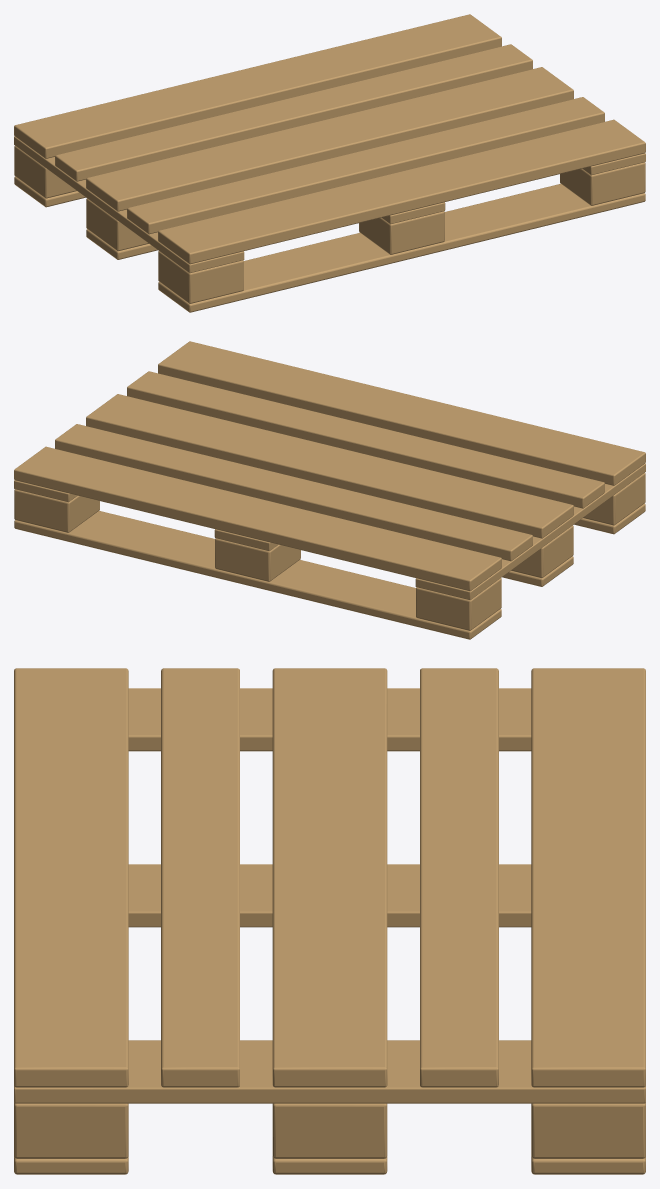
Rendered from pallet_1200x800.glb.
The picture shows the model from 3 angles, top to bottom: view 1: azimuth 30°, elevation 25°; view 2: azimuth 150°, elevation 25°; view 3: azimuth 270°, elevation 25°; orthographic projection. The views are drawn at different scales.
Visible parts, largest first — view 1: Deck plank, Deck plank.002, Deck plank.004, Deck plank.001, Deck plank.003, Pallet runner, Pallet block, Pallet block.006, Pallet block.003, Cross stringer, Pallet block.002, Pallet block.001 (+4 smaller); view 2: Deck plank.004, Deck plank, Deck plank.002, Deck plank.003, Deck plank.001, Pallet runner.002, Pallet block.002, Pallet block.008, Pallet block.005, Cross stringer, Pallet block, Pallet block.001 (+4 smaller); view 3: Deck plank.002, Deck plank, Deck plank.004, Deck plank.001, Deck plank.003, Cross stringer.002, Cross stringer, Cross stringer.001, Pallet block.007, Pallet block.006, Pallet block.008, Pallet runner.001 (+2 smaller).
Boxes of the visible parts, x1,y1,x2,y2 form: Deck plank: (158,119,645,264); Deck plank.002: (86,67,573,211); Deck plank.004: (14,14,501,158); Deck plank.001: (127,97,604,234); Deck plank.003: (55,44,532,181); Pallet runner: (158,183,645,312); Pallet block: (158,251,243,303); Pallet block.006: (560,162,645,205); Pallet block.003: (359,211,444,254); Cross stringer: (14,136,244,273); Pallet block.002: (14,146,76,198); Pallet block.001: (86,198,148,251); Deck plank.004: (14,446,501,591); Deck plank: (158,341,645,485); Deck plank.002: (86,394,573,538); Deck plank.003: (55,424,532,561); Deck plank.001: (127,371,604,508); Pallet runner.002: (14,510,501,639); Pallet block.002: (416,578,501,630); Pallet block.008: (14,489,99,532); Pallet block.005: (215,538,300,581); Cross stringer: (415,463,645,600); Pallet block: (583,473,645,525); Pallet block.001: (511,525,573,578); Deck plank.002: (272,668,387,1087); Deck plank: (14,668,128,1087); Deck plank.004: (531,668,645,1087); Deck plank.001: (161,668,239,1087); Deck plank.003: (420,668,498,1087); Cross stringer.002: (14,1040,645,1103); Cross stringer: (128,688,531,751); Cross stringer.001: (128,864,531,927); Pallet block.007: (272,1103,387,1158); Pallet block.006: (14,1103,128,1158); Pallet block.008: (531,1103,645,1158); Pallet runner.001: (272,1156,387,1174).
Size of the model in its own units: 1.2 by 0.15 by 0.8.
